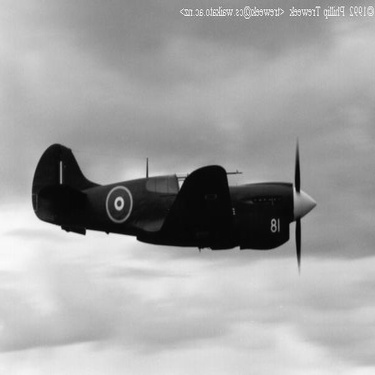airplane: (19, 88, 336, 275)
